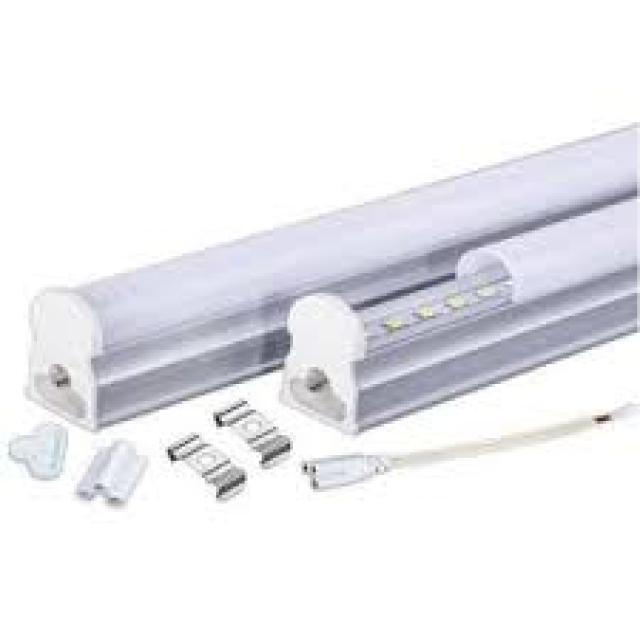tubelight_off: (21, 114, 640, 445), (275, 190, 640, 442)
